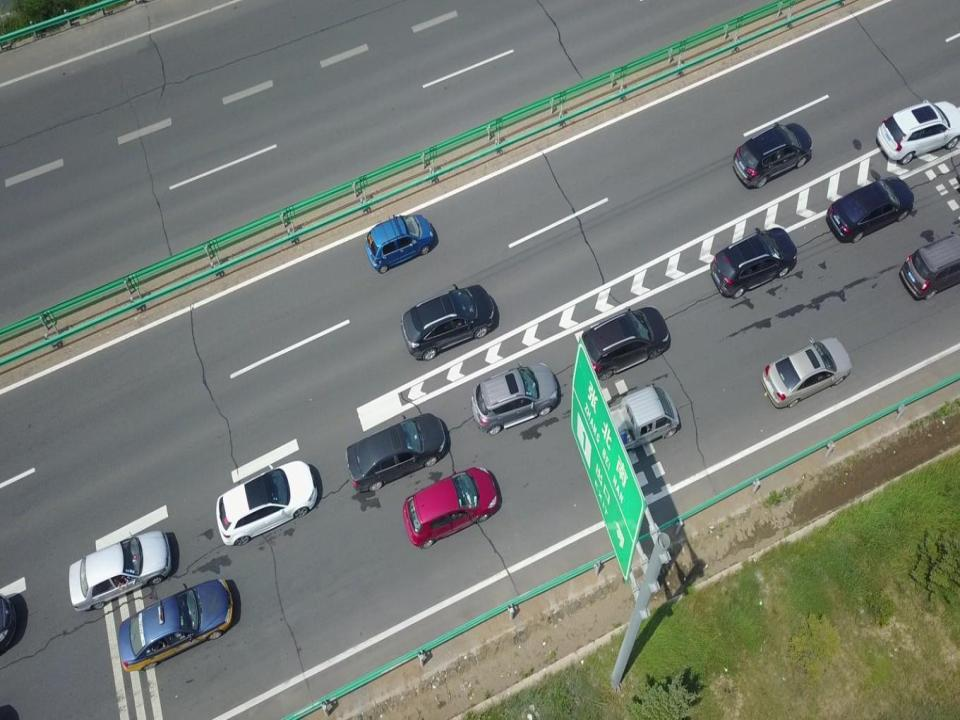car: (115, 577, 234, 672), (215, 456, 318, 546), (68, 528, 172, 612), (344, 411, 448, 493), (403, 463, 498, 550), (399, 280, 496, 362), (577, 302, 670, 382), (470, 358, 560, 437), (761, 334, 851, 410), (708, 224, 798, 299), (825, 174, 914, 244), (875, 98, 960, 166), (732, 120, 813, 189), (364, 213, 434, 274)
truck: (583, 380, 680, 457)
van: (898, 232, 960, 302)
